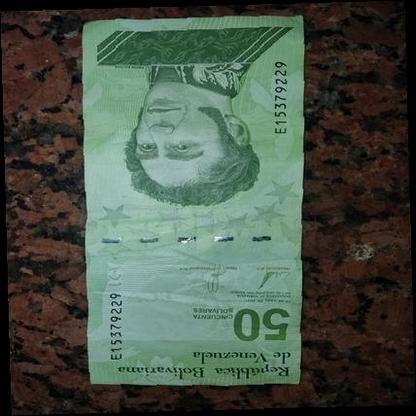fifty-front-vef: (81, 15, 303, 384)
